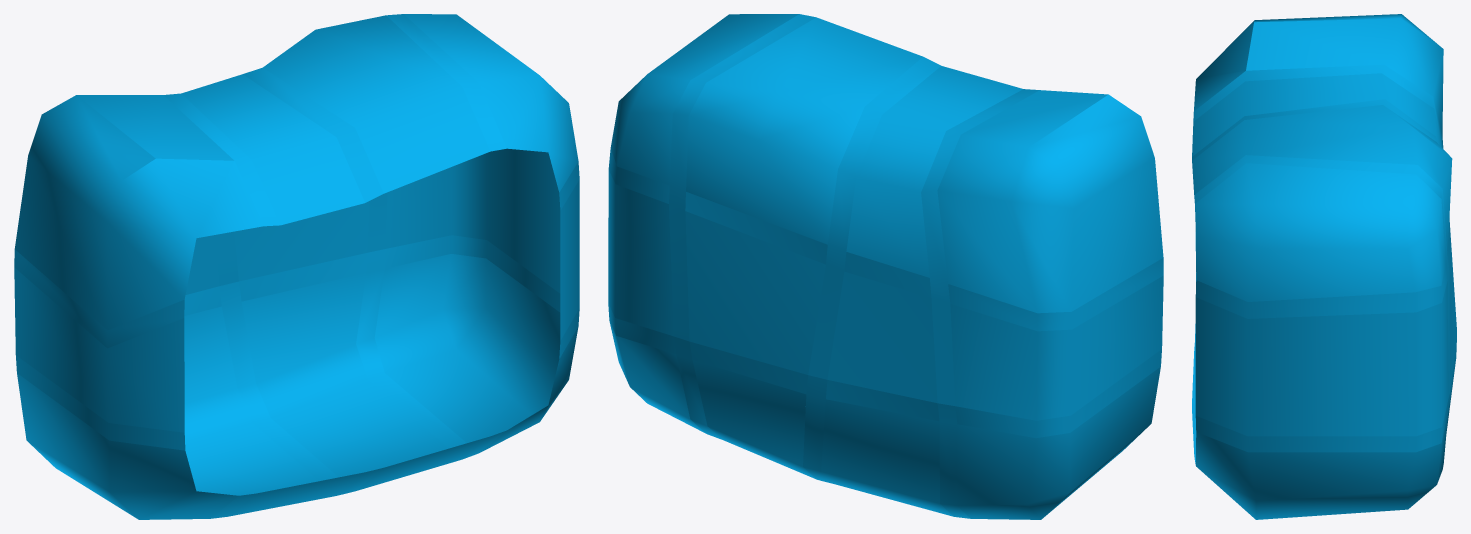
The model's file is CargoBagB.FBX.
The picture shows the model from 3 angles, left to right: view 1: azimuth 30°, elevation 25°; view 2: azimuth 150°, elevation 25°; view 3: azimuth 270°, elevation 25°; orthographic projection. The views are drawn at different scales.
Parts seen in each view (by area): view 1: CargoBagB; view 2: CargoBagB; view 3: CargoBagB.
Part boxes in pixels (x1=…): CargoBagB: x1=14, y1=14, x2=579, y2=519; CargoBagB: x1=608, y1=14, x2=1163, y2=519; CargoBagB: x1=1192, y1=14, x2=1456, y2=519.
Size of the model in its own units: 0.4804 by 0.3747 by 0.256.
Materials: 1 (1 with a texture image).
